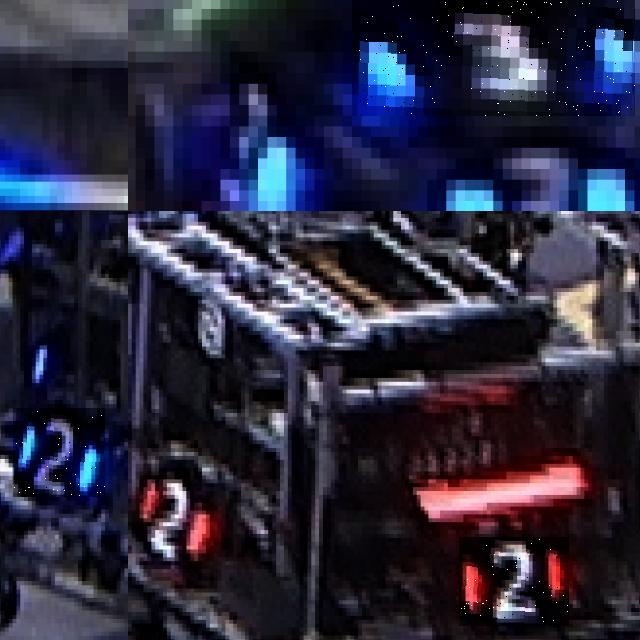B2: (13, 408, 105, 497)
B3: (352, 0, 634, 115), (182, 56, 314, 211), (417, 136, 634, 211)
R2: (459, 538, 569, 628), (132, 472, 222, 569)
